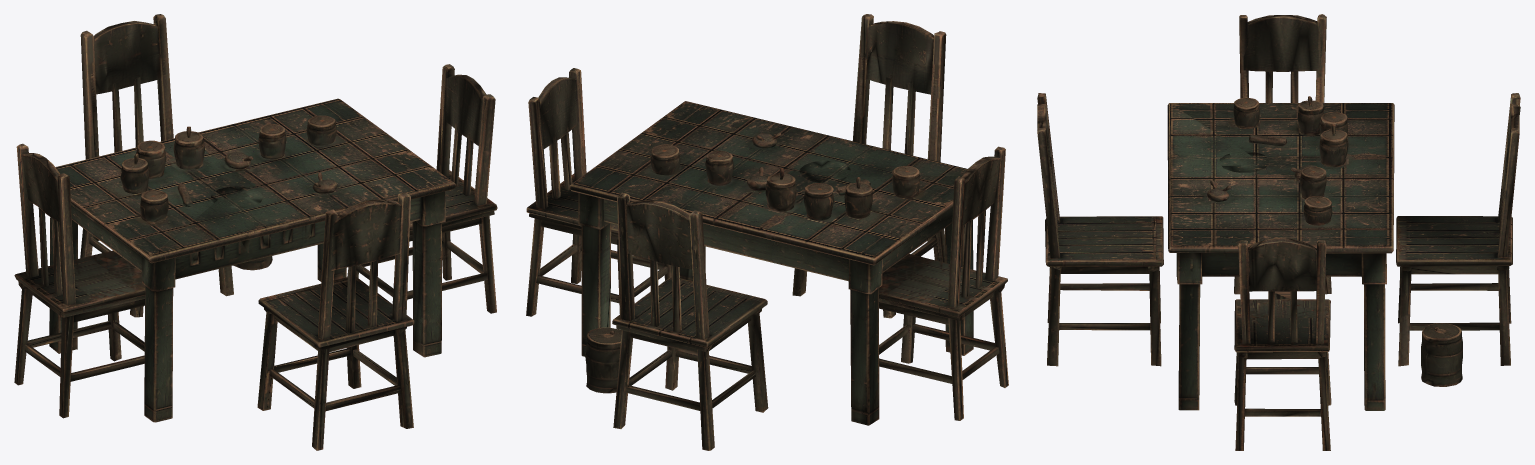
The model's file is table_and_chairs.fbx.
3 renders of one model, left to right at view 1: azimuth 30°, elevation 25°; view 2: azimuth 150°, elevation 25°; view 3: azimuth 270°, elevation 25°, orthographic. The views are drawn at different scales.
Parts seen in each view (by area): view 1: table_and_chairs; view 2: table_and_chairs; view 3: table_and_chairs.
Boxes of the visible parts, x1,y1,x2,y2 form: table_and_chairs: (14,14,497,450); table_and_chairs: (526,14,1008,450); table_and_chairs: (1037,14,1520,450).
Bounding box in the file's own units: 1042 × 553 × 1038.
Materials: 1 (1 with a texture image).
